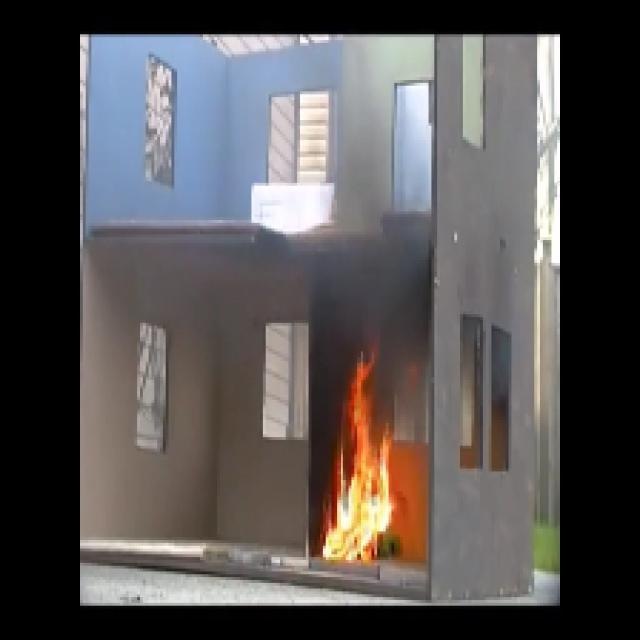Fire: (326, 368, 397, 554)
Smoke: (328, 198, 423, 356)
